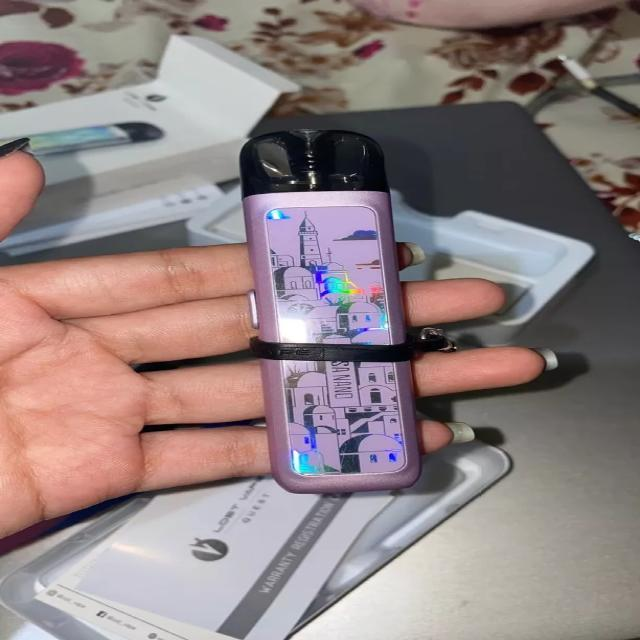Hazard: (235, 126, 426, 495), (1, 123, 166, 153)
